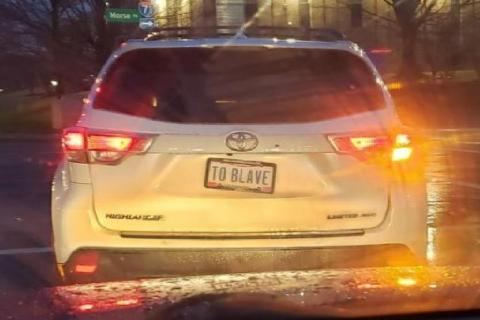LicensePlate: (202, 156, 276, 194)
